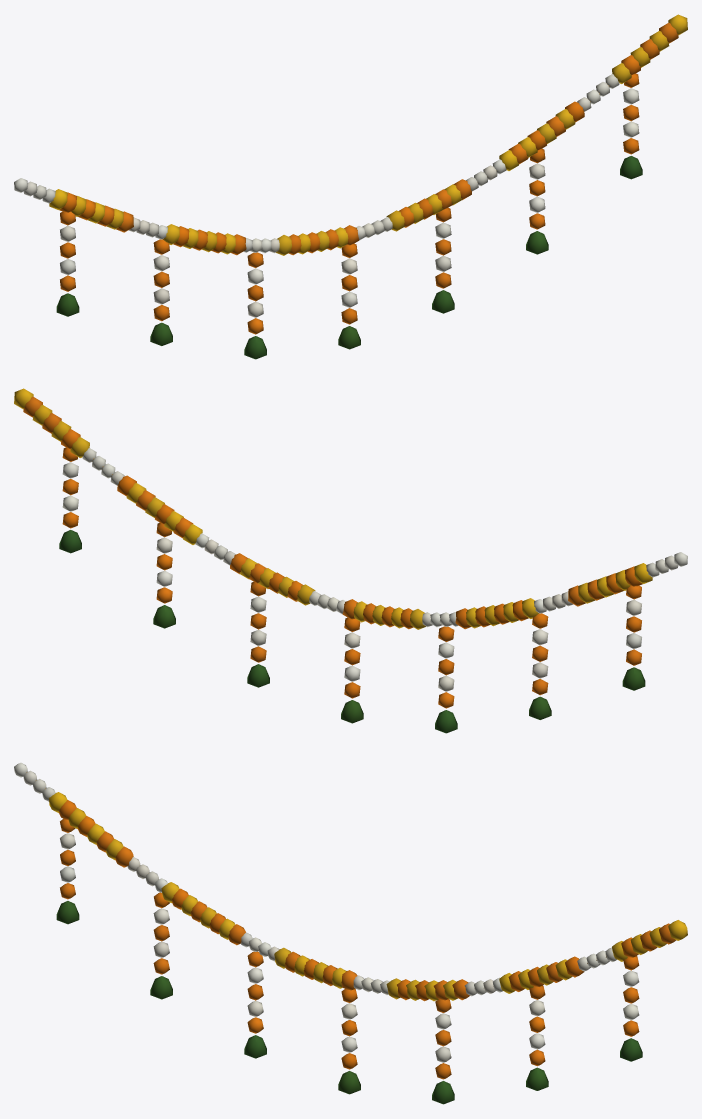
File: PRP_Garland_Gate_A.glb
The picture shows the model from 3 angles, top to bottom: view 1: azimuth 30°, elevation 25°; view 2: azimuth 150°, elevation 25°; view 3: azimuth 330°, elevation 25°; orthographic projection.
Parts seen in each view (by area): view 1: PRP_Garland_Gate_A_Mesh; view 2: PRP_Garland_Gate_A_Mesh; view 3: PRP_Garland_Gate_A_Mesh.
Part boxes in pixels (bbox=[...]): PRP_Garland_Gate_A_Mesh: bbox=[14, 14, 687, 359]; PRP_Garland_Gate_A_Mesh: bbox=[14, 388, 687, 733]; PRP_Garland_Gate_A_Mesh: bbox=[14, 762, 687, 1104].
Size of the model in its own units: 2.97 by 1.07 by 0.0866.
